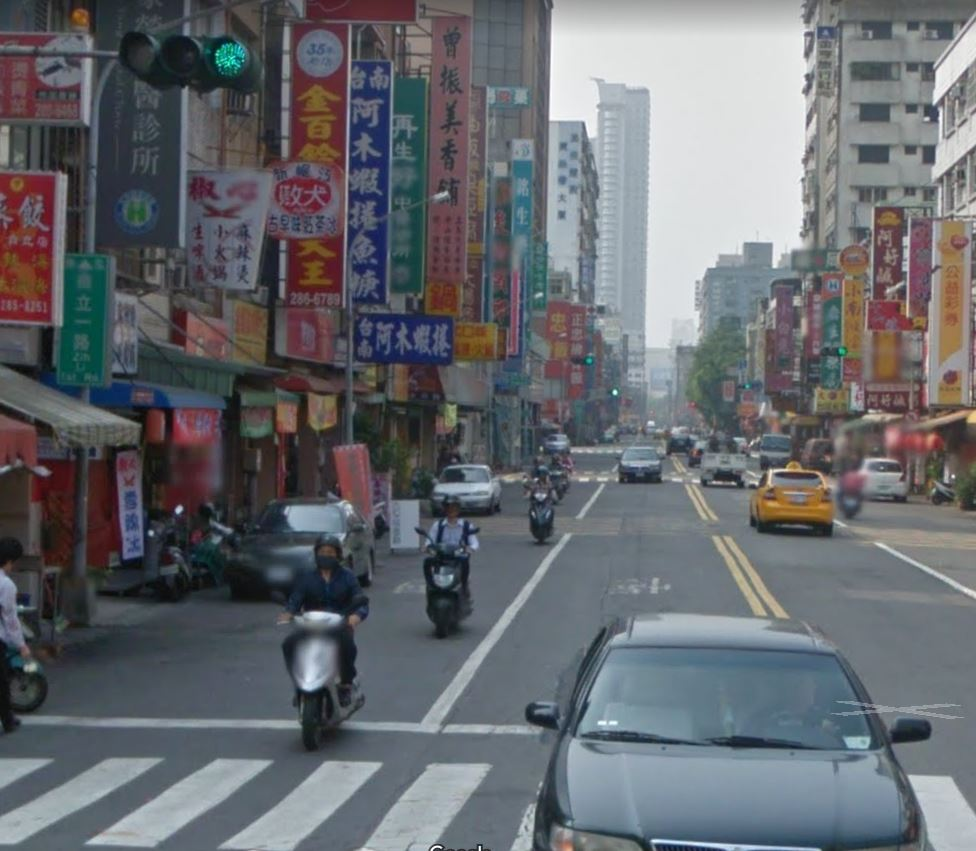Traffic_light_green: (113, 25, 269, 104)
car: (744, 459, 837, 537), (614, 442, 667, 485)
motorcycle: (273, 584, 372, 750), (410, 520, 478, 639), (522, 482, 558, 546)
